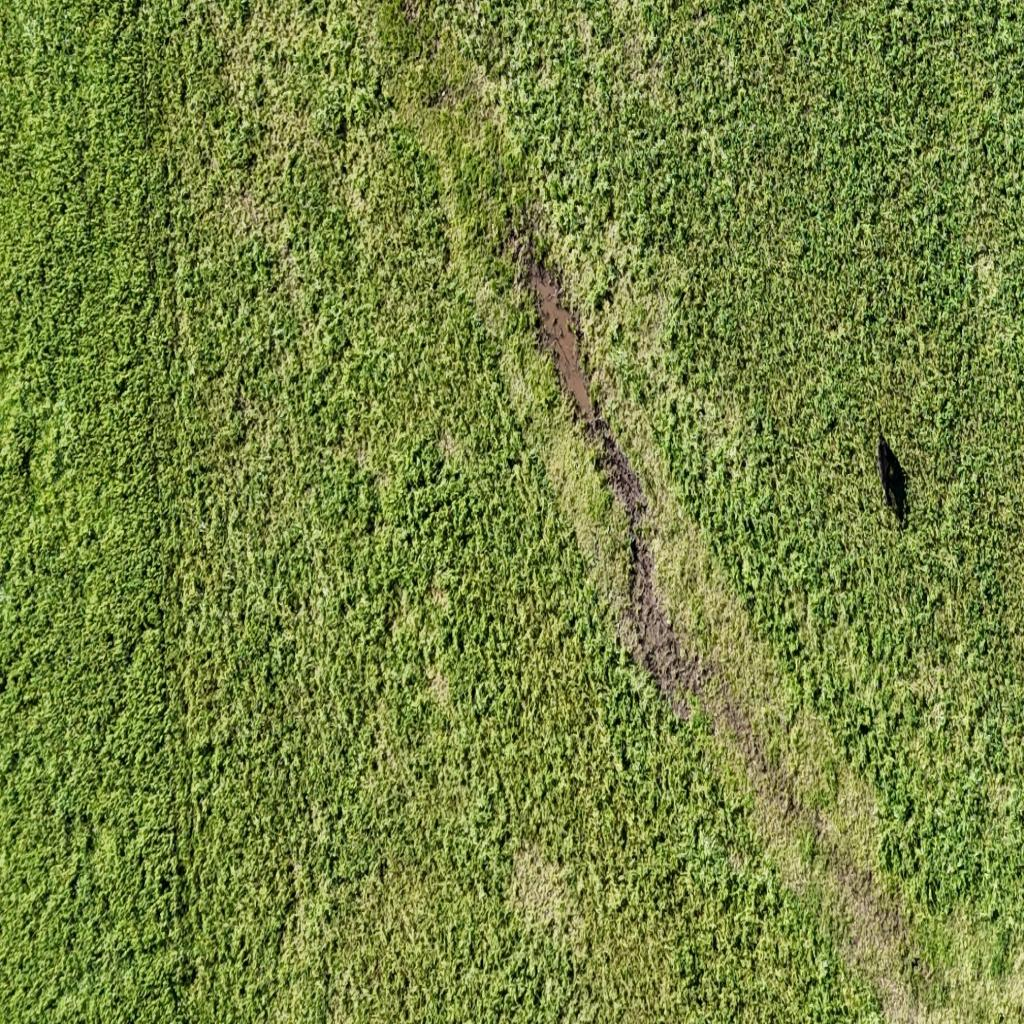cow: (876, 430, 913, 513)
